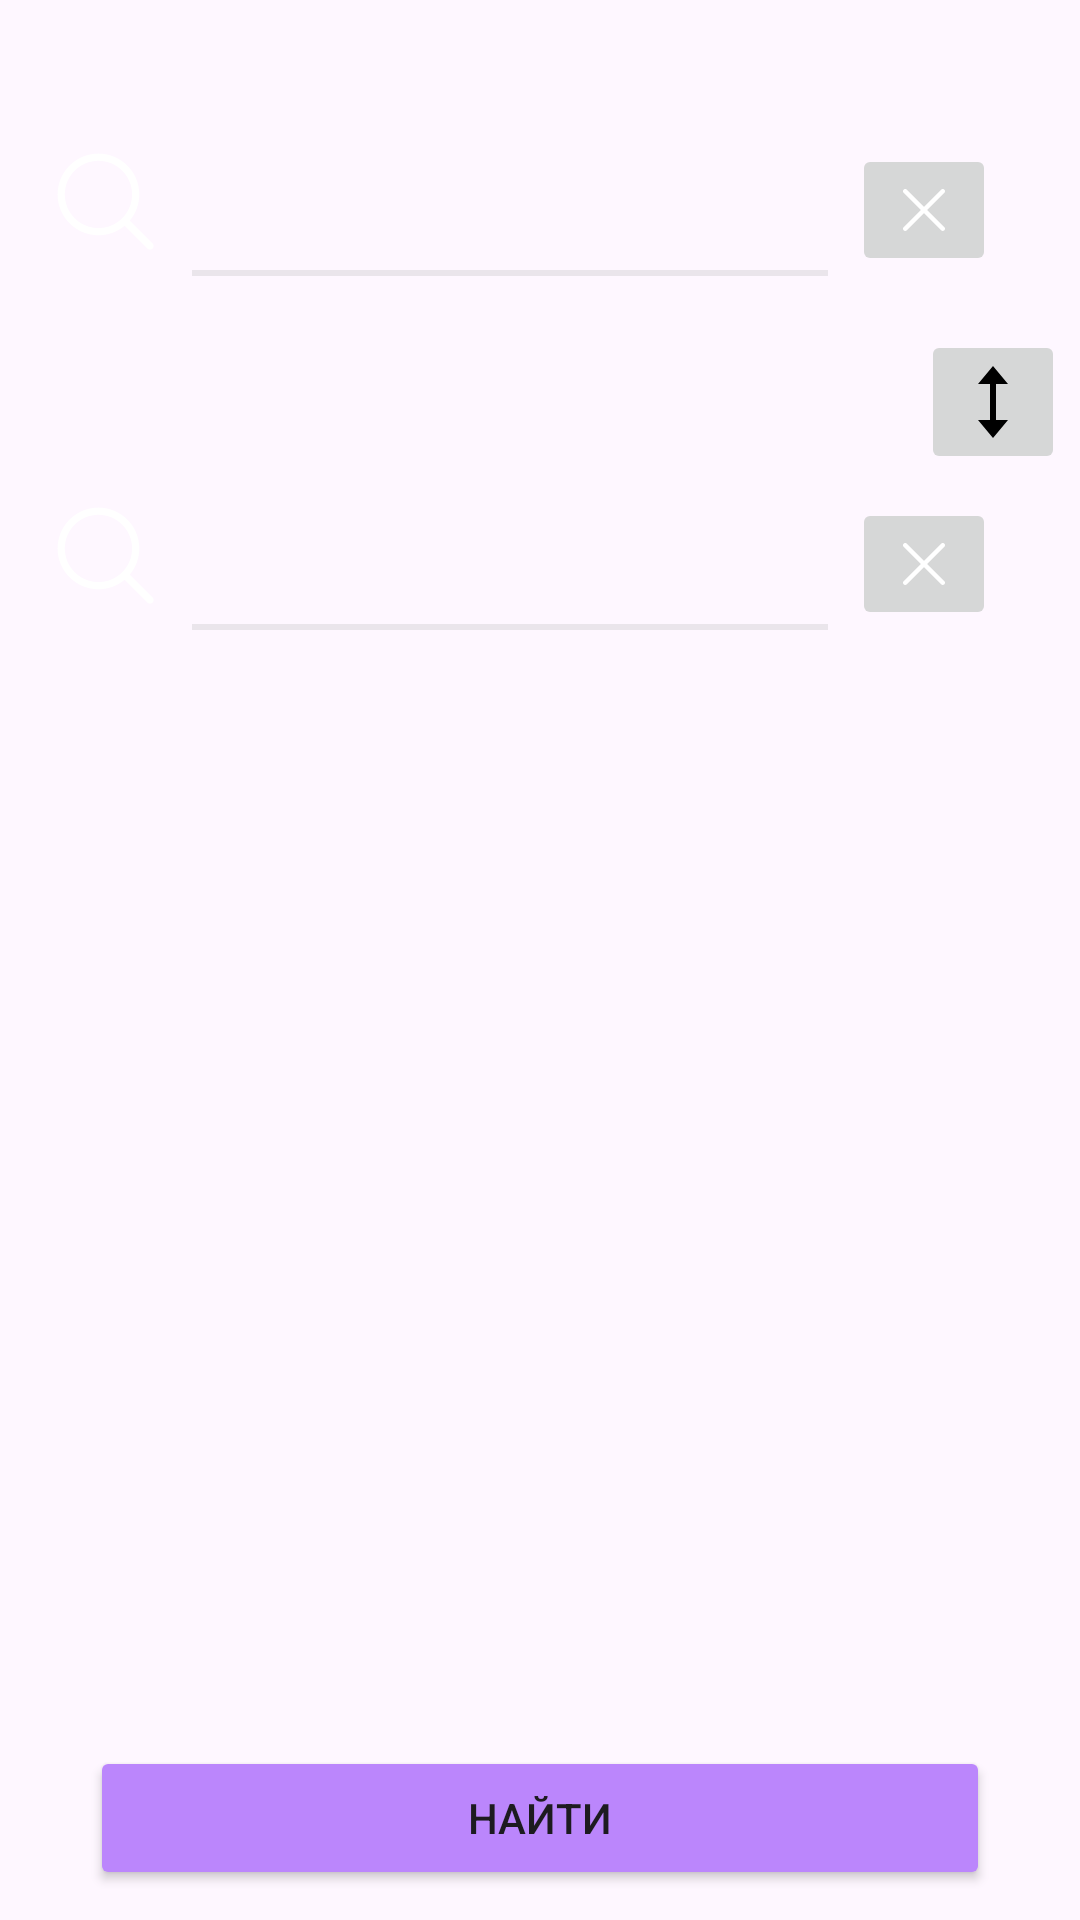

Screen size 1080 x 1920. Icon name, then its box in pixels as Rect(x1, y1, x2, y2):
exit: Rect(864, 162, 984, 258), Rect(864, 516, 984, 612)
top bottom arrow: Rect(933, 348, 1053, 456)
